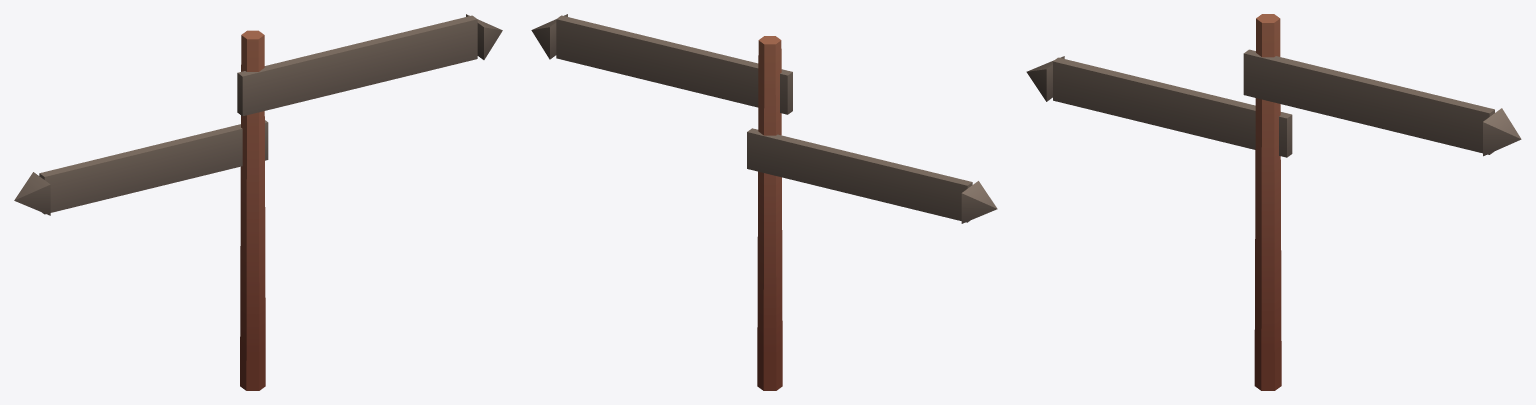
The model's file is signpost.glb.
The picture shows the model from 3 angles, left to right: view 1: azimuth 30°, elevation 25°; view 2: azimuth 150°, elevation 25°; view 3: azimuth 330°, elevation 25°; orthographic projection. The views are drawn at different scales.
Visible parts, largest first — view 1: signpost; view 2: signpost; view 3: signpost.
Boxes of the visible parts, x1=… form: signpost: x1=14, y1=14, x2=502, y2=390; signpost: x1=531, y1=14, x2=997, y2=390; signpost: x1=1026, y1=14, x2=1521, y2=390.
Bounding box in the file's own units: 4.3 × 3 × 0.3958.
Materials: 1 (1 with a texture image).
